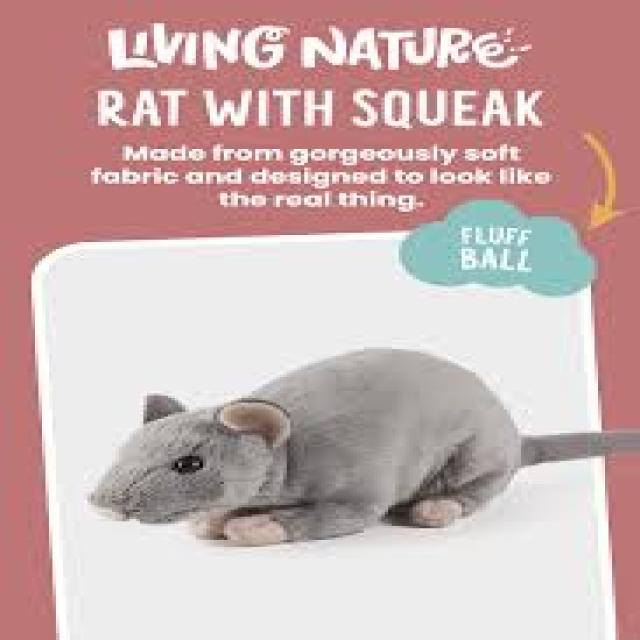rat: (84, 344, 636, 544)
